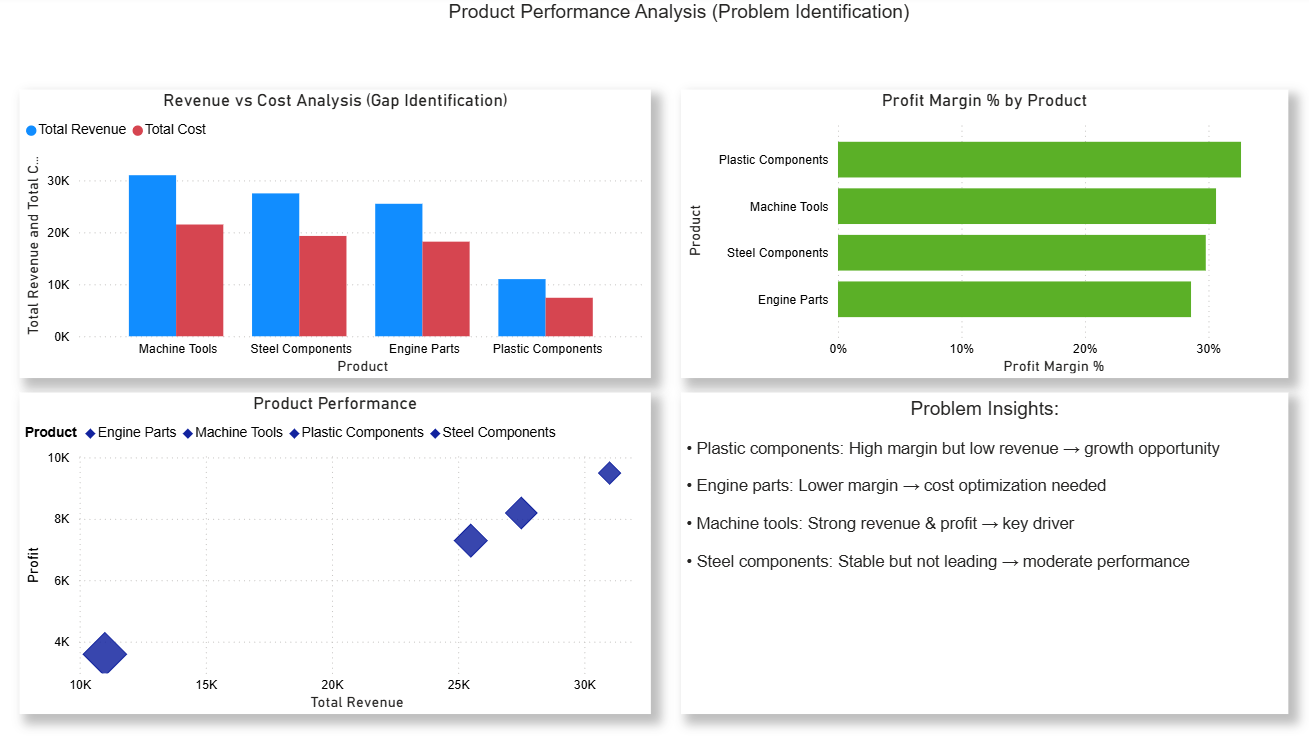

What the dashboard file says about the page in this screenshot:
{"tool":"powerbi","page":{"name":"Page 2","canvas":[1280,720],"ordinal":1},"visuals":[{"type":"clusteredColumnChart","title":"Revenue vs Cost Analysis (Gap Identification)","fields":{"Category":["Product.Product"],"Y":["Revenue.Total Revenue","Cost.Total Cost"]},"box":[24.3,92.4,612.8,280.1],"z":0},{"type":"barChart","fields":{"Y":["Revenue.Profit Margin %"],"Category":["Product.Product"]},"box":[666.3,92.4,589.4,280.1],"z":1000},{"type":"scatterChart","title":"Product Performance","fields":{"X":["Revenue.Total Revenue"],"Y":["Revenue.Total Profit"],"Series":["Product.Product"],"Size":["Sum(Revenue.Units Sold)"]},"box":[24.3,386.1,612.8,312.2],"z":2000},{"type":"textbox","box":[666.3,386.1,589.4,312.2],"z":3000},{"type":"textbox","box":[434.5,0,462,58.5],"z":4000}]}

Visuals, with their boxes in screenshot pixels (x1, y1, x2, y2), scaled from the page's 1280x720 canvas onto the 1309x736 screenshot:
"Revenue vs Cost Analysis (Gap Identification)" clusteredColumnChart: Rect(25, 94, 652, 381)
barChart - Revenue.Profit Margin % x Product.Product: Rect(681, 94, 1284, 381)
"Product Performance" scatterChart: Rect(25, 395, 652, 714)
textbox: Rect(681, 395, 1284, 714)
textbox: Rect(444, 0, 917, 60)
